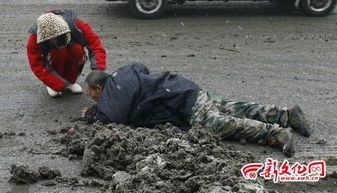falling: (70, 57, 312, 158)
